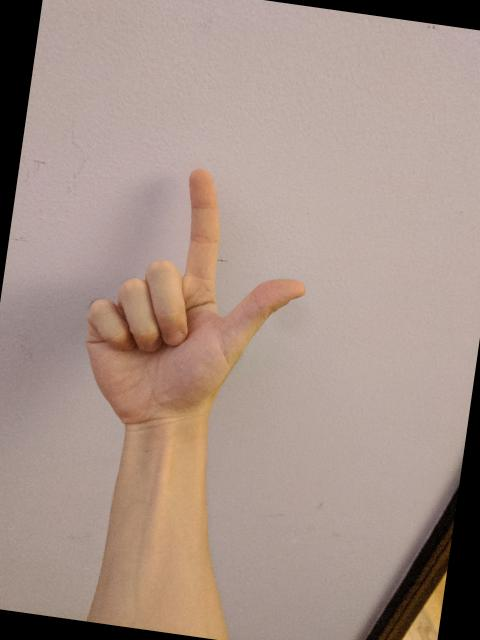L: (65, 150, 327, 458)
